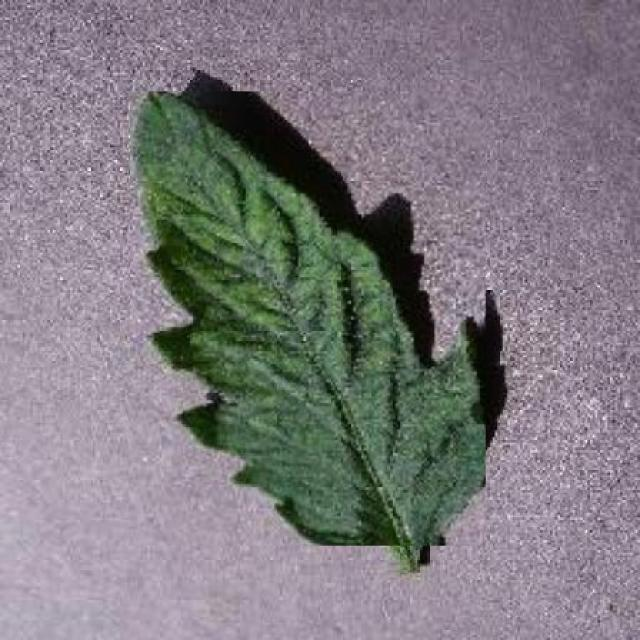Mosaic Virus: (129, 91, 485, 546)
